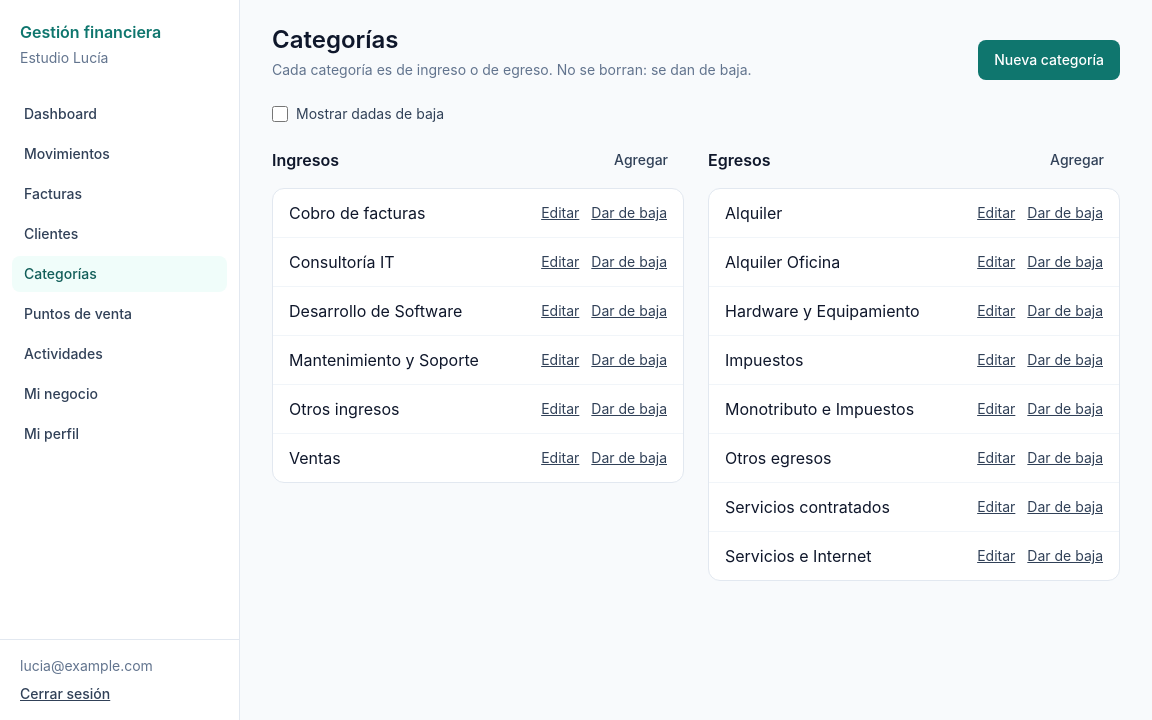
Scenario: profile › is reachable from the main menu
The width and height of the screenshot is (1152, 720).
Click the link "Mi perfil".
click(52, 434)  # box [24,425,79,442]
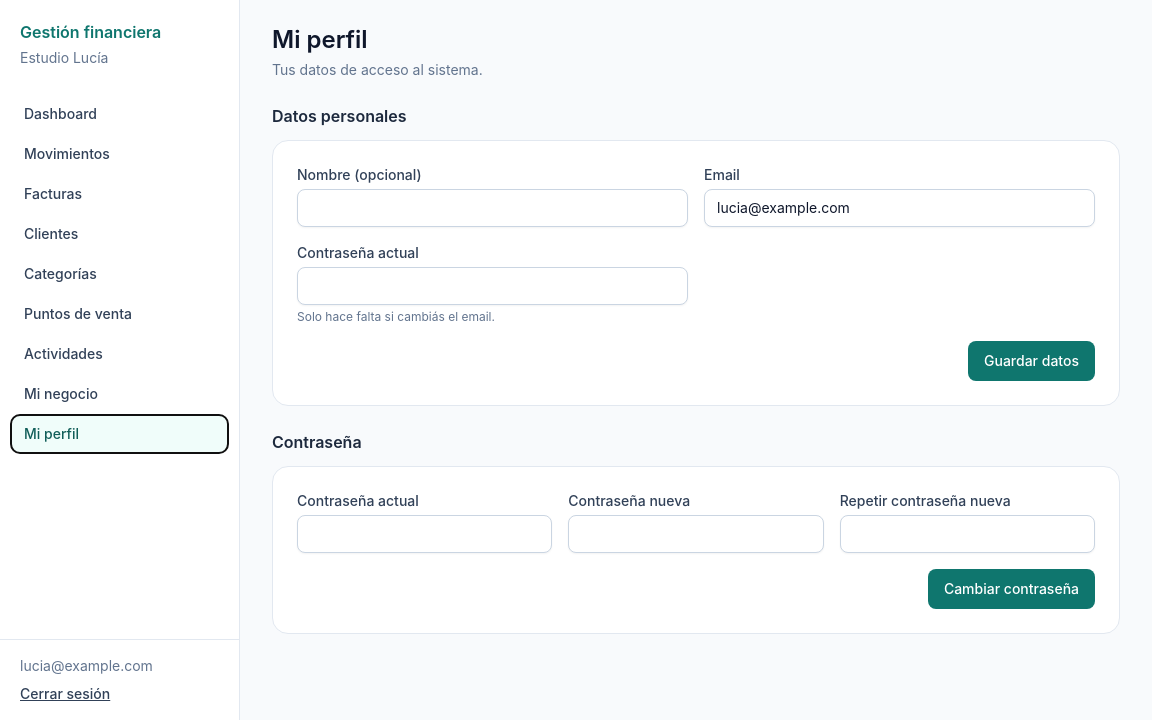
Now the heading "Mi perfil" is shown, box [272,25,368,54]
